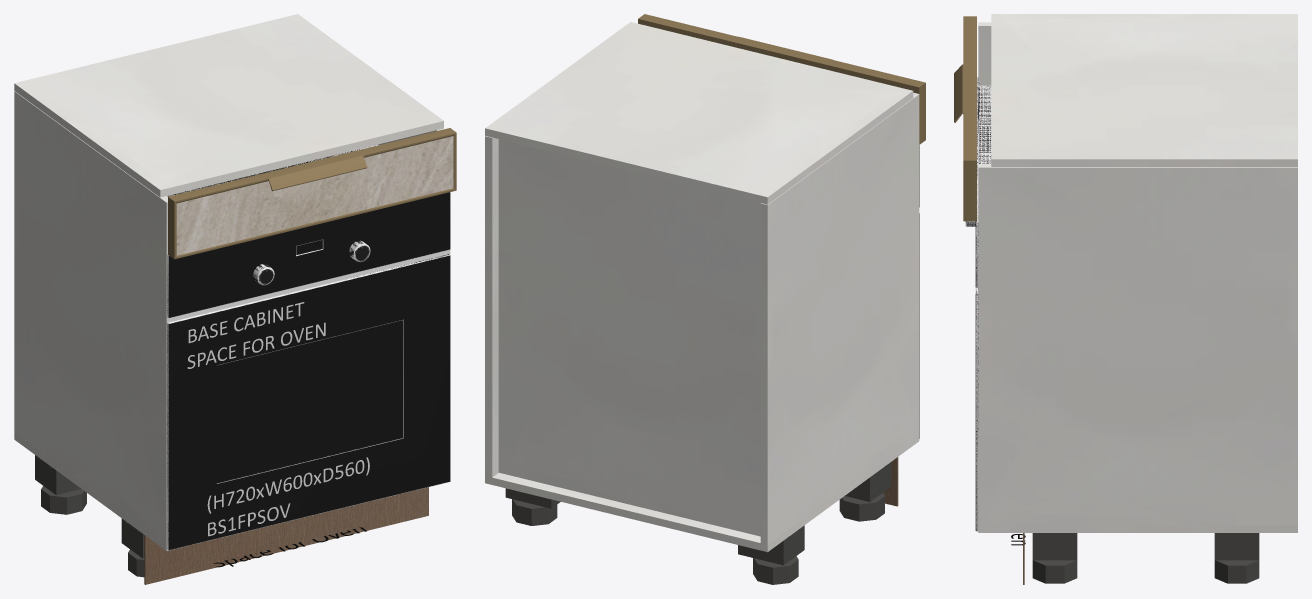
File: BC-AP-NHX-ST-OVN-1FP-XXX-600-720-560-15.glb
The picture shows the model from 3 angles, left to right: view 1: azimuth 30°, elevation 25°; view 2: azimuth 150°, elevation 25°; view 3: azimuth 270°, elevation 25°; orthographic projection. The views are drawn at different scales.
Parts seen in each view (by area): view 1: SKP_Component1, TP_node, TP_node_1, Object_node_12, Object_node_14, SKP_Component3, SKP_Component2, ExtrSplGeo, Extrusion_node, 2D text_node, 2D text, TP (+5 smaller); view 2: TP_node_2, TP_node, TP_node_1, TP, TP_node_0, Extrusion_node, ExtrSplGeo, Plate, Foot, Foot_node_0, Foot_node, Plate_node_0; view 3: TP_node_0, TP_node_1, TP, SKP_Component3, SKP_Component5, Extrusion_node, Plate_node, Plate_node_1, ExtrSplGeo, Foot_node, Foot_node_1, TP_node (+1 smaller).
Part boxes in pixels (x1=…): SKP_Component1: x1=169, y1=192, x2=450, y2=549; TP_node: x1=14, y1=91, x2=168, y2=543; TP_node_1: x1=14, y1=14, x2=443, y2=197; Object_node_12: x1=176, y1=136, x2=453, y2=255; Object_node_14: x1=144, y1=487, x2=428, y2=584; SKP_Component3: x1=167, y1=144, x2=450, y2=550; SKP_Component2: x1=168, y1=192, x2=450, y2=323; ExtrSplGeo: x1=262, y1=151, x2=367, y2=191; Extrusion_node: x1=168, y1=128, x2=456, y2=203; 2D text_node: x1=207, y1=457, x2=369, y2=536; 2D text: x1=187, y1=302, x2=325, y2=368; TP: x1=14, y1=432, x2=447, y2=550; TP_node_2: x1=498, y1=139, x2=760, y2=536; TP_node: x1=760, y1=92, x2=919, y2=544; TP_node_1: x1=485, y1=22, x2=913, y2=204; TP: x1=485, y1=434, x2=919, y2=552; TP_node_0: x1=485, y1=136, x2=498, y2=477; Extrusion_node: x1=638, y1=14, x2=925, y2=91; ExtrSplGeo: x1=731, y1=36, x2=832, y2=69; Plate: x1=738, y1=525, x2=804, y2=565; Foot: x1=753, y1=556, x2=798, y2=584; Foot_node_0: x1=839, y1=493, x2=884, y2=521; Foot_node: x1=512, y1=499, x2=557, y2=525; Plate_node_0: x1=845, y1=462, x2=891, y2=501; TP_node_0: x1=978, y1=164, x2=1297, y2=525; TP_node_1: x1=991, y1=14, x2=1297, y2=166; TP: x1=978, y1=525, x2=1297, y2=532; SKP_Component3: x1=965, y1=77, x2=991, y2=531; SKP_Component5: x1=975, y1=79, x2=990, y2=530; Extrusion_node: x1=963, y1=16, x2=976, y2=160; Plate_node: x1=1214, y1=533, x2=1259, y2=560; Plate_node_1: x1=1032, y1=533, x2=1077, y2=560; ExtrSplGeo: x1=954, y1=64, x2=976, y2=122; Foot_node: x1=1214, y1=560, x2=1259, y2=583; Foot_node_1: x1=1032, y1=560, x2=1077, y2=583; TP_node: x1=978, y1=22, x2=991, y2=85.
Size of what is drawn, in the model's own units: 0.6 by 0.82 by 0.6.
Materials: 10 (3 with a texture image).
